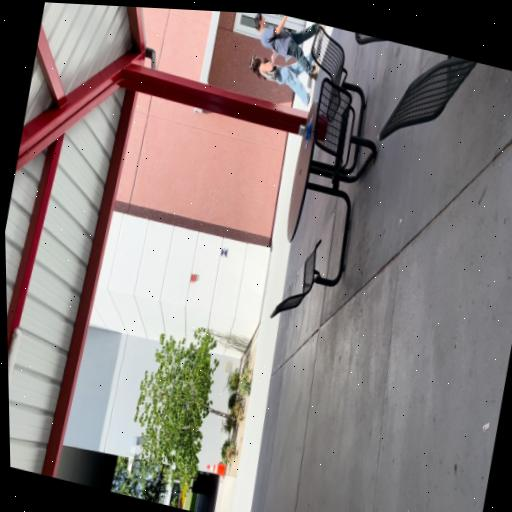target9: (220, 247, 228, 258)
